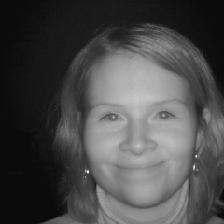happy: (53, 21, 224, 214)
